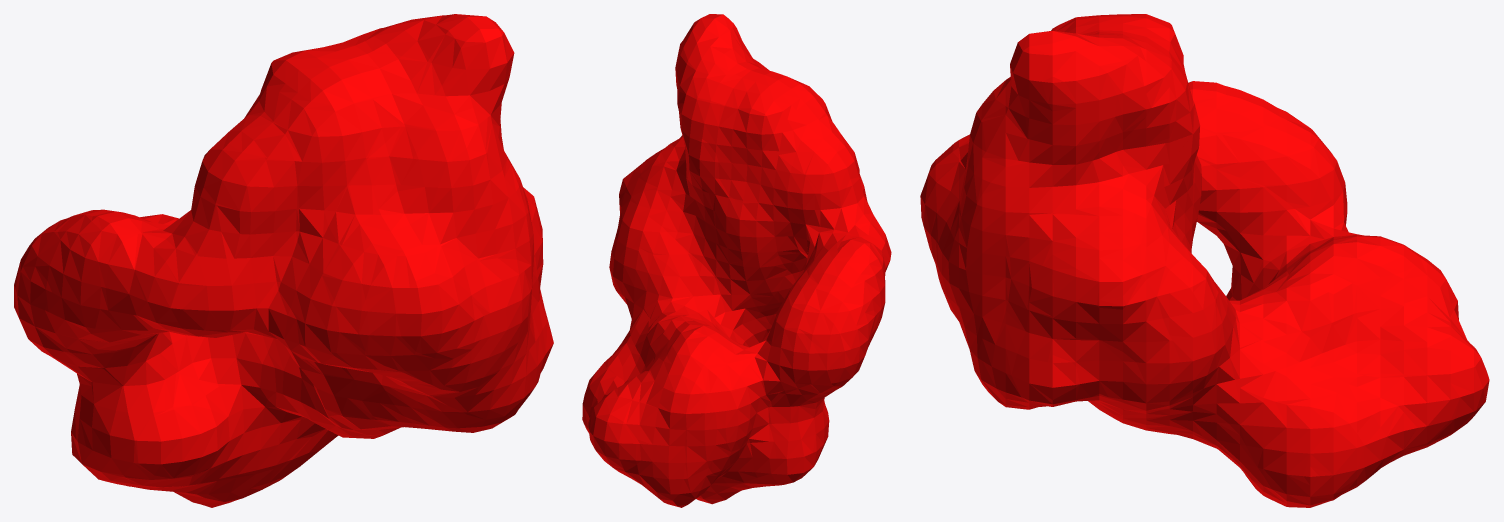
The model's file is racR_coarse.dae.
3 renders of one model, left to right at view 1: azimuth 30°, elevation 25°; view 2: azimuth 150°, elevation 25°; view 3: azimuth 270°, elevation 25°, orthographic. The views are drawn at different scales.
Visible parts, largest first — view 1: racR; view 2: racR; view 3: racR.
Part boxes in pixels (box(x1,y1,x2,y2)): racR: box(14, 14, 553, 507); racR: box(582, 14, 891, 507); racR: box(920, 14, 1489, 507).
Bounding box in the file's own units: 45.56 × 56.38 × 55.78.
